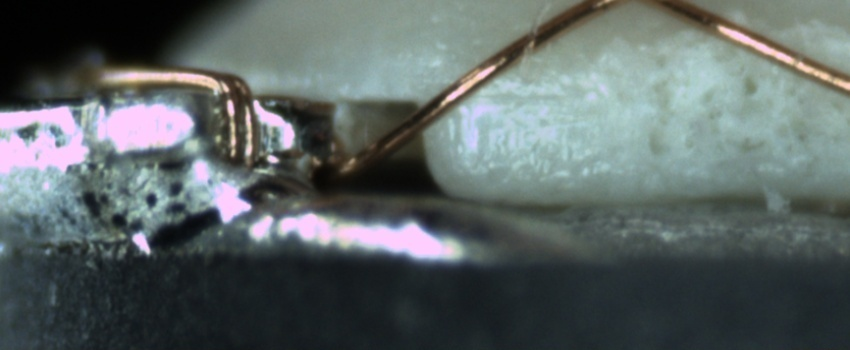DL: (472, 63, 571, 126), (640, 162, 641, 163)
TE: (87, 59, 263, 170)
